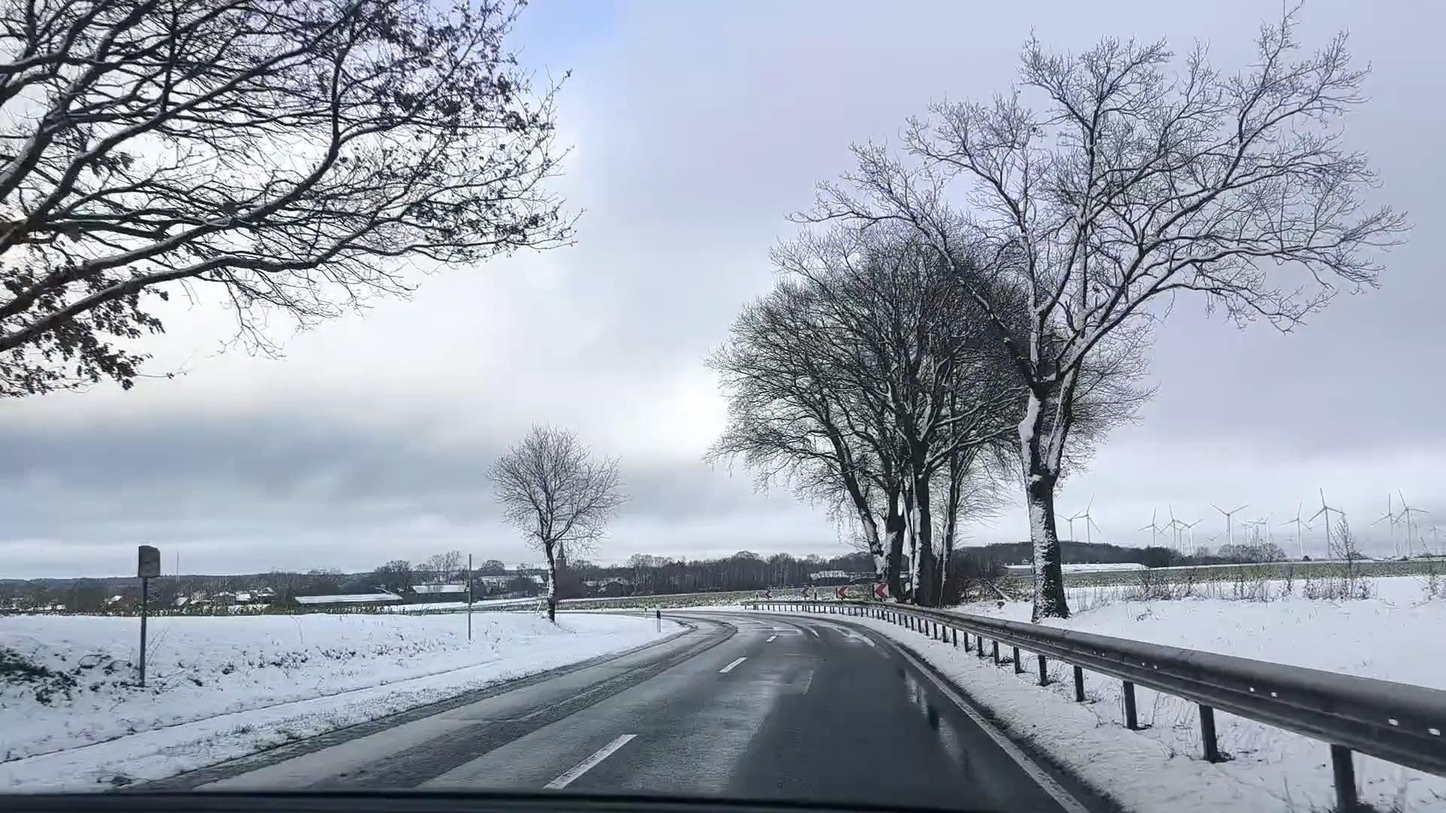Snow: (883, 577, 1446, 813), (0, 610, 670, 795)
dry: (419, 612, 1084, 812)
wet: (152, 615, 744, 796)
